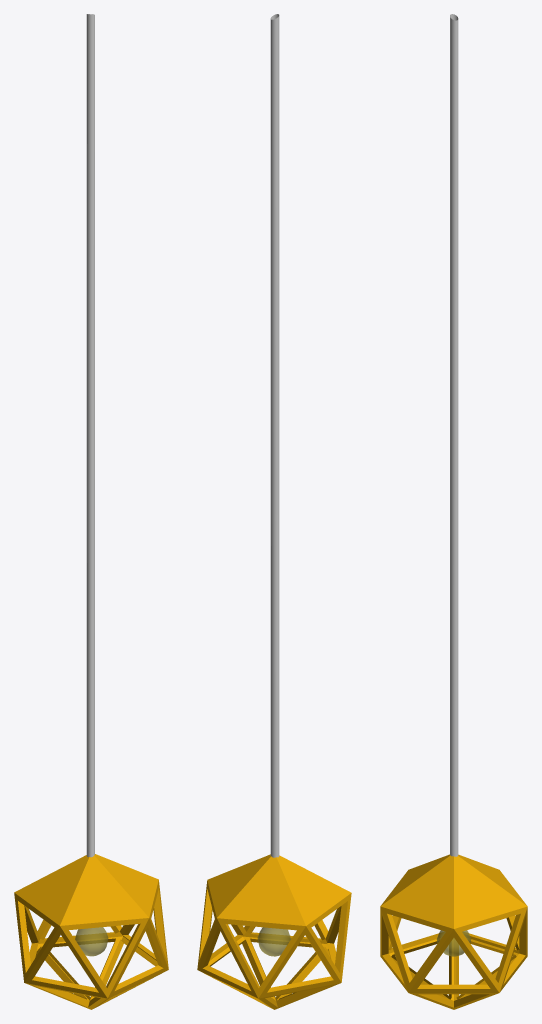
The model's file is Lantern.fbx.
3 views of the same model, side by side, from view 1: azimuth 30°, elevation 25°; view 2: azimuth 150°, elevation 25°; view 3: azimuth 270°, elevation 25° (orthographic).
Parts seen in each view (by area): view 1: Pipe.005; view 2: Pipe.005; view 3: Pipe.005.
Boxes of the visible parts, bbox=[...] form: Pipe.005: bbox=[14, 14, 168, 1009]; Pipe.005: bbox=[197, 14, 351, 1009]; Pipe.005: bbox=[380, 14, 527, 1009].
Size of the model in its own units: 89.44 by 633 by 85.06.
